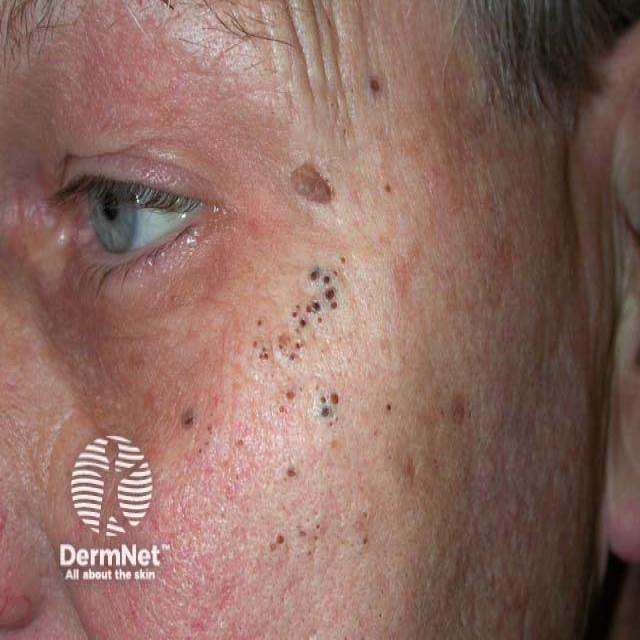blackhead: (369, 76, 382, 93), (309, 268, 319, 282), (324, 286, 334, 300), (184, 415, 194, 428), (320, 407, 331, 418), (286, 468, 297, 478), (330, 392, 339, 404), (322, 273, 330, 286), (284, 391, 294, 401), (313, 300, 321, 312), (296, 340, 304, 352), (325, 16, 333, 28), (385, 183, 393, 194), (276, 534, 284, 545), (340, 256, 348, 266), (299, 318, 307, 328), (298, 530, 308, 538), (329, 439, 337, 449), (331, 300, 338, 311), (208, 424, 214, 436), (362, 511, 370, 520), (362, 536, 368, 548), (252, 340, 258, 350), (278, 405, 284, 415), (467, 409, 472, 420), (296, 302, 302, 311), (306, 305, 312, 314), (289, 353, 295, 362), (204, 439, 210, 448), (298, 384, 304, 393), (328, 420, 334, 429), (270, 543, 276, 552), (378, 611, 384, 620), (333, 269, 339, 277), (292, 311, 298, 319), (257, 319, 263, 327), (262, 352, 268, 360), (317, 316, 323, 324), (319, 397, 327, 403), (386, 403, 392, 411), (316, 523, 322, 531), (432, 457, 438, 465), (343, 126, 347, 138), (234, 473, 240, 481), (238, 438, 243, 447), (278, 344, 284, 351), (208, 411, 214, 418), (314, 383, 320, 390), (360, 633, 366, 640), (258, 353, 263, 361), (198, 448, 203, 456), (350, 87, 355, 95), (270, 109, 275, 117), (294, 328, 300, 334), (270, 372, 274, 381), (334, 416, 340, 422), (387, 454, 393, 460), (330, 100, 334, 109), (262, 344, 266, 352), (286, 374, 290, 382), (439, 407, 443, 415), (314, 534, 319, 540), (307, 550, 312, 556), (343, 635, 348, 640)
